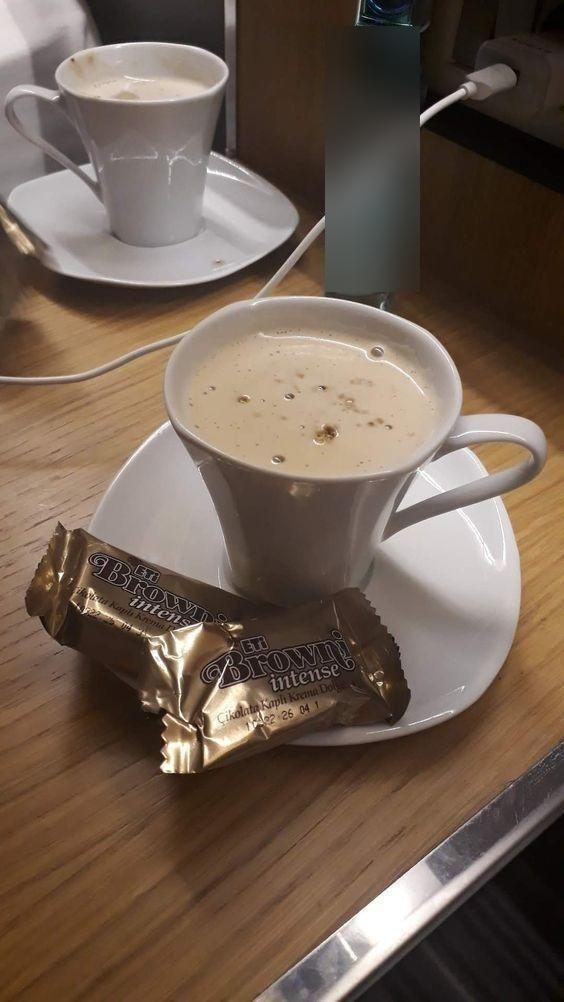cup-handle: (162, 295, 548, 612), (4, 40, 230, 248)
